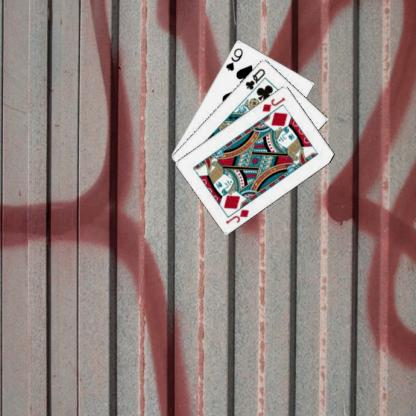9S: (223, 45, 244, 72)
JD: (223, 206, 250, 226), (260, 94, 286, 113)
QC: (242, 66, 266, 91)
